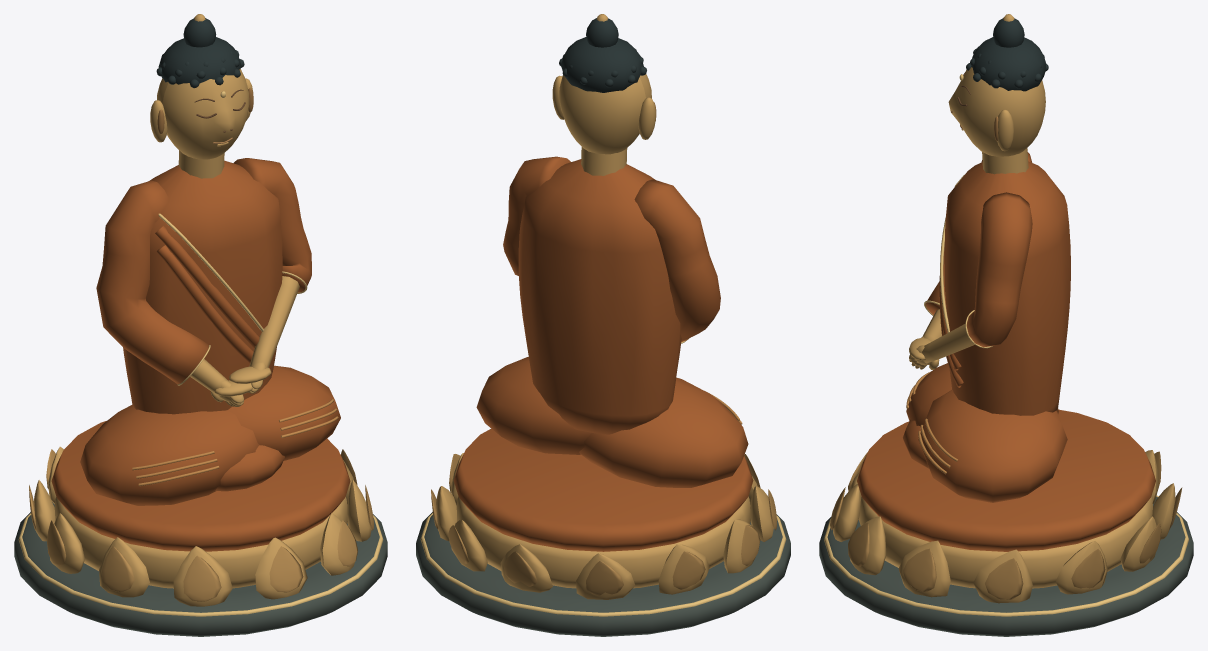
The model's file is buddha_lod1.glb.
The picture shows the model from 3 angles, left to right: view 1: azimuth 30°, elevation 25°; view 2: azimuth 150°, elevation 25°; view 3: azimuth 270°, elevation 25°; orthographic projection.
Visible parts, largest first — view 1: buddha_SaffronDrapery, buddha_AntiqueGold, buddha_CarvedPlinth, buddha_GoldPetalRelief, buddha_BlueBlackCurls, buddha_RaisedGoldBorders, buddha_DraperyFoldHighlights; view 2: buddha_SaffronDrapery, buddha_AntiqueGold, buddha_CarvedPlinth, buddha_GoldPetalRelief, buddha_BlueBlackCurls, buddha_RaisedGoldBorders; view 3: buddha_SaffronDrapery, buddha_AntiqueGold, buddha_CarvedPlinth, buddha_GoldPetalRelief, buddha_BlueBlackCurls, buddha_RaisedGoldBorders, buddha_DraperyFoldHighlights.
Boxes of the visible parts, x1=… form: buddha_SaffronDrapery: x1=51, y1=158, x2=350, y2=551; buddha_AntiqueGold: x1=34, y1=14, x2=371, y2=606; buddha_CarvedPlinth: x1=14, y1=502, x2=387, y2=636; buddha_GoldPetalRelief: x1=29, y1=449, x2=373, y2=601; buddha_BlueBlackCurls: x1=156, y1=18, x2=244, y2=88; buddha_RaisedGoldBorders: x1=18, y1=91, x2=383, y2=616; buddha_DraperyFoldHighlights: x1=132, y1=399, x2=338, y2=486; buddha_SaffronDrapery: x1=453, y1=156, x2=753, y2=551; buddha_AntiqueGold: x1=436, y1=14, x2=773, y2=599; buddha_CarvedPlinth: x1=416, y1=512, x2=790, y2=636; buddha_GoldPetalRelief: x1=431, y1=454, x2=776, y2=595; buddha_BlueBlackCurls: x1=559, y1=18, x2=646, y2=92; buddha_RaisedGoldBorders: x1=420, y1=339, x2=786, y2=616; buddha_SaffronDrapery: x1=857, y1=152, x2=1155, y2=551; buddha_AntiqueGold: x1=833, y1=14, x2=1175, y2=603; buddha_CarvedPlinth: x1=819, y1=496, x2=1193, y2=636; buddha_GoldPetalRelief: x1=830, y1=451, x2=1182, y2=599; buddha_BlueBlackCurls: x1=966, y1=18, x2=1048, y2=91; buddha_RaisedGoldBorders: x1=824, y1=74, x2=1188, y2=616; buddha_DraperyFoldHighlights: x1=906, y1=371, x2=957, y2=474.
Size of the model in its own units: 1.1 by 1.78 by 1.1.
